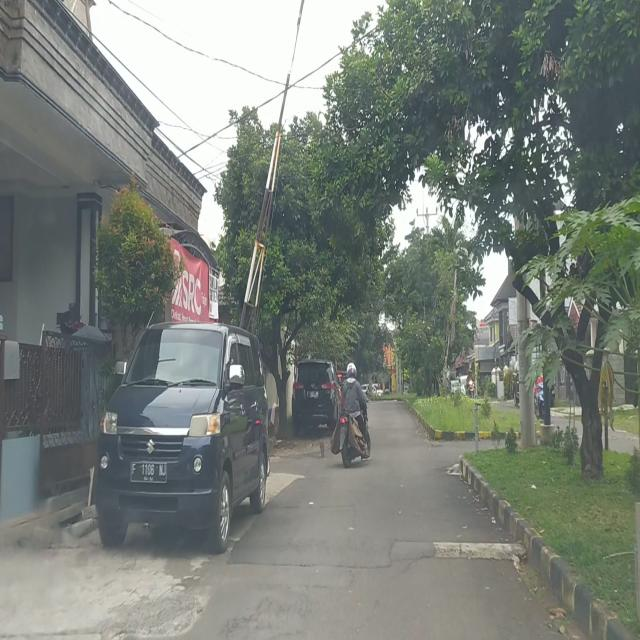Drain Hole: (216, 585, 307, 640)
